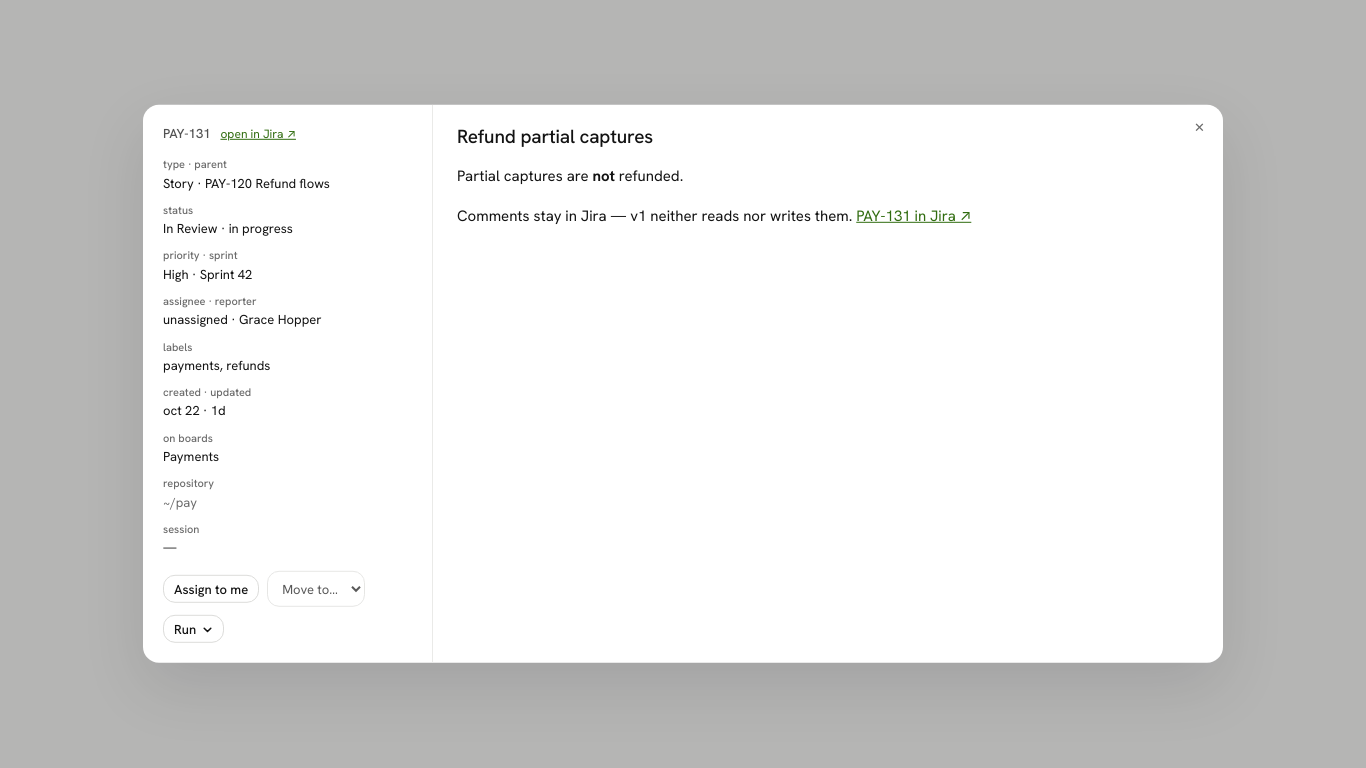
JiraIssueModal — Assign to me and Move to… (Jira phase 3) › falls back to HTTP <status>, then to the network's message, and the next write clears the line
Expected: the text "not" is shown, 592,166 -> 615,186
Click the button "Assign to me" at (211, 589), box 163,575 -> 259,603
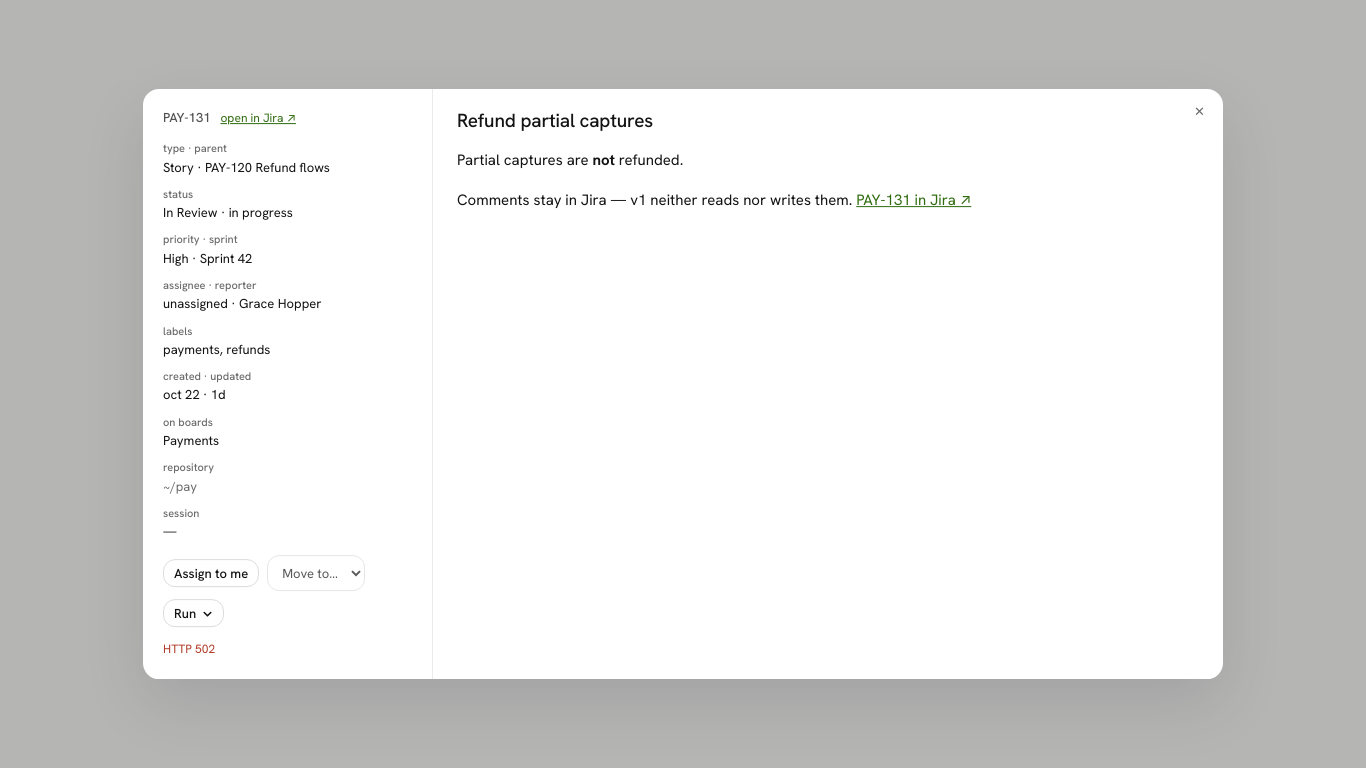
Expected: the message reads "HTTP 502", 163,642 -> 215,658
Click the button "Assign to me" at (211, 574), box 163,560 -> 259,588
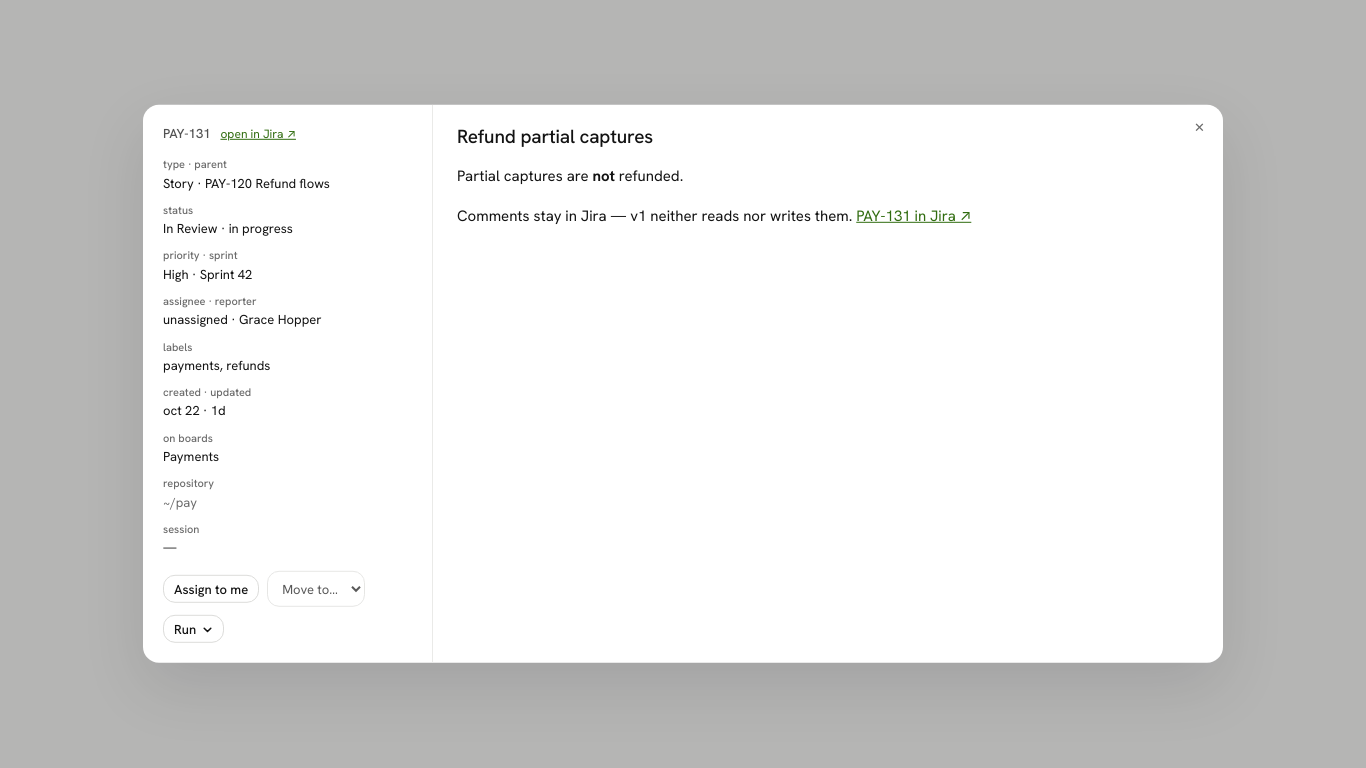
Expected: the message "HTTP 502" is gone
Click the button "Assign to me" at (211, 589), box 163,575 -> 259,603
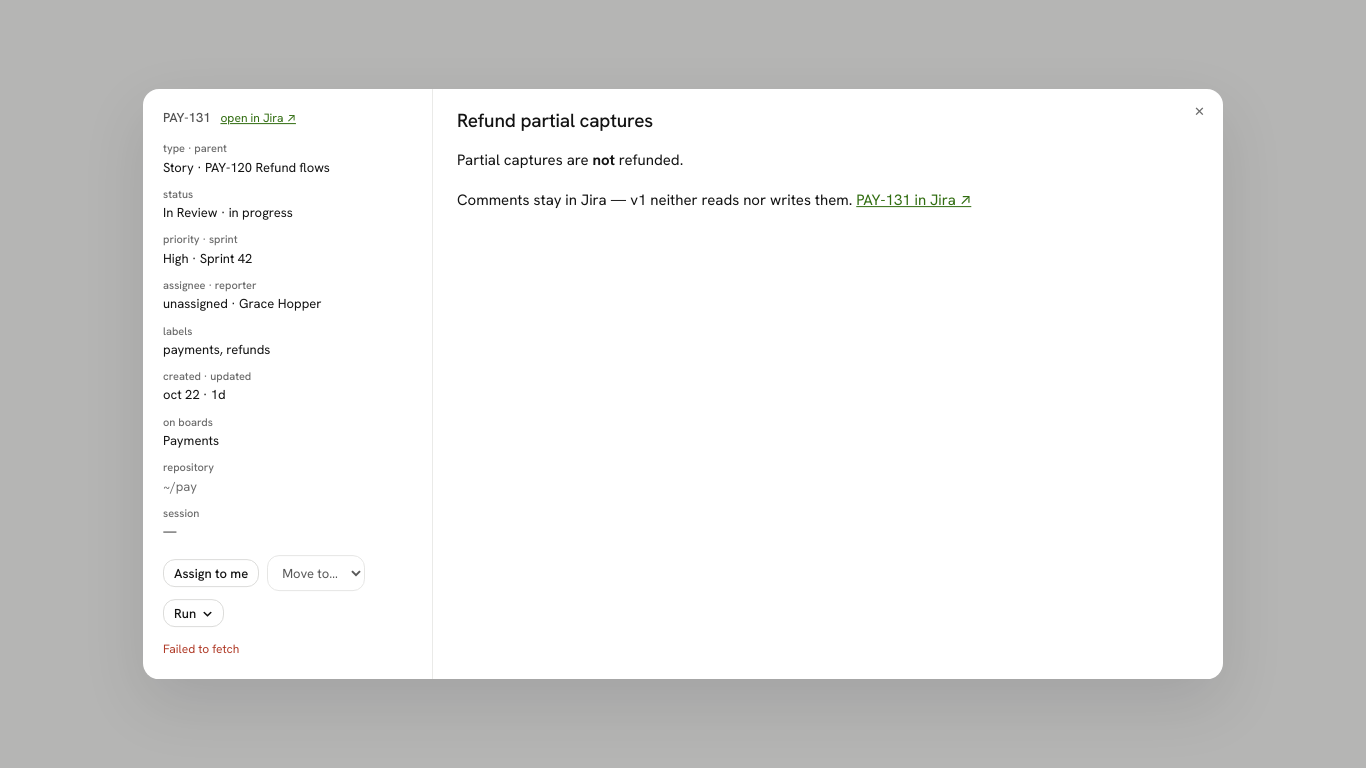
Expected: the message reads "Failed to fetch", 163,642 -> 239,658
